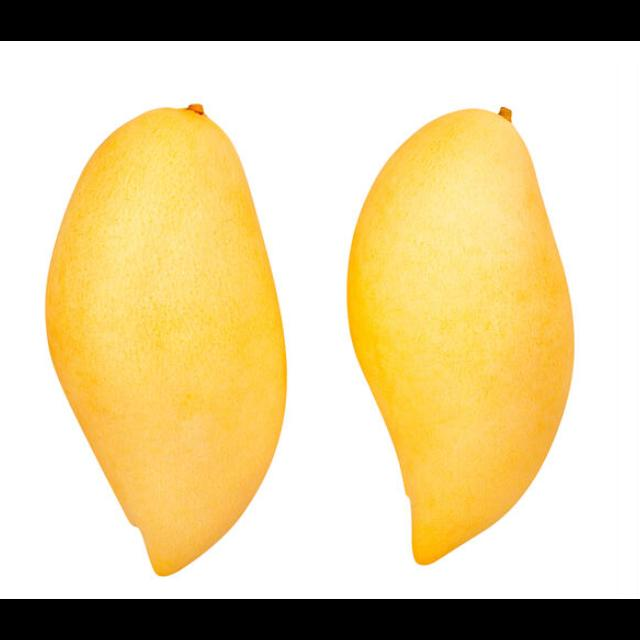mango: (44, 106, 288, 574), (343, 106, 574, 567)
